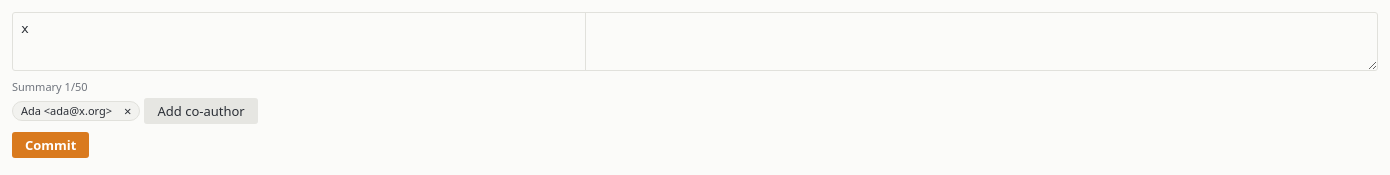
Scenario: CommitBox showAbort › co-authors › removes a co-author chip
This screenshot has width=1390, height=175.
Click the button named "Remove co-author Ada" at (128, 111), box [116,102,139,120]
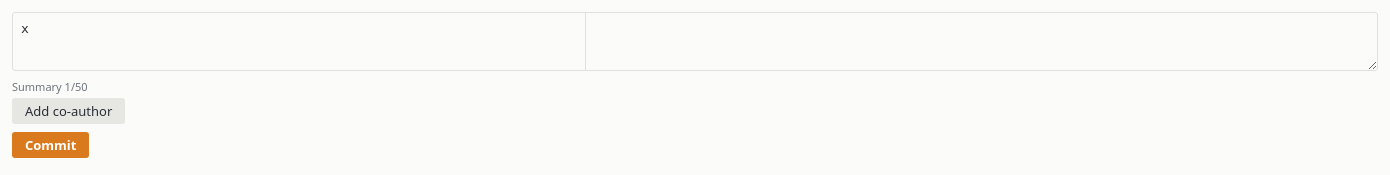
Result: the text "Ada <ada@x.org>" is gone
